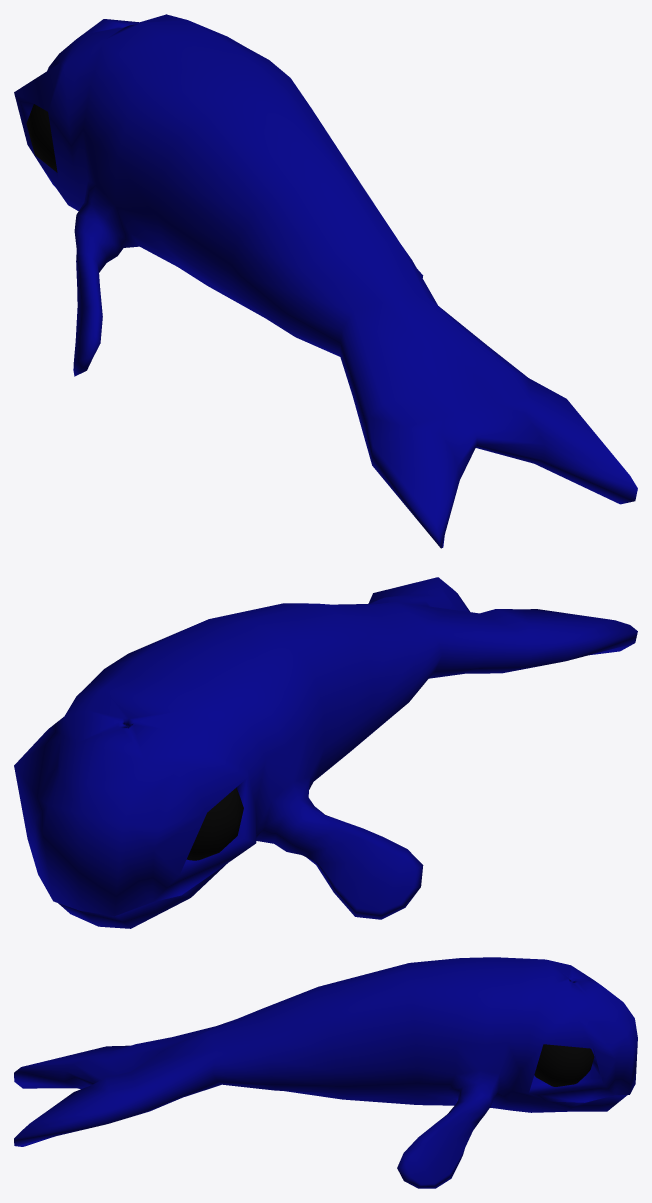
Rendered from Timewhale.fbx.
3 views of the same model, one above another, from view 1: azimuth 30°, elevation 25°; view 2: azimuth 150°, elevation 25°; view 3: azimuth 270°, elevation 25° (orthographic). The views are drawn at different scales.
Visible parts, largest first — view 1: Empty_Mesh; view 2: Empty_Mesh; view 3: Empty_Mesh.
Part boxes in pixels (x1,y1,x2,y2): Empty_Mesh: (14,14,637,548); Empty_Mesh: (14,577,637,928); Empty_Mesh: (14,957,637,1188).
Bounding box in the file's own units: 7.74 × 5.43 × 18.13.
